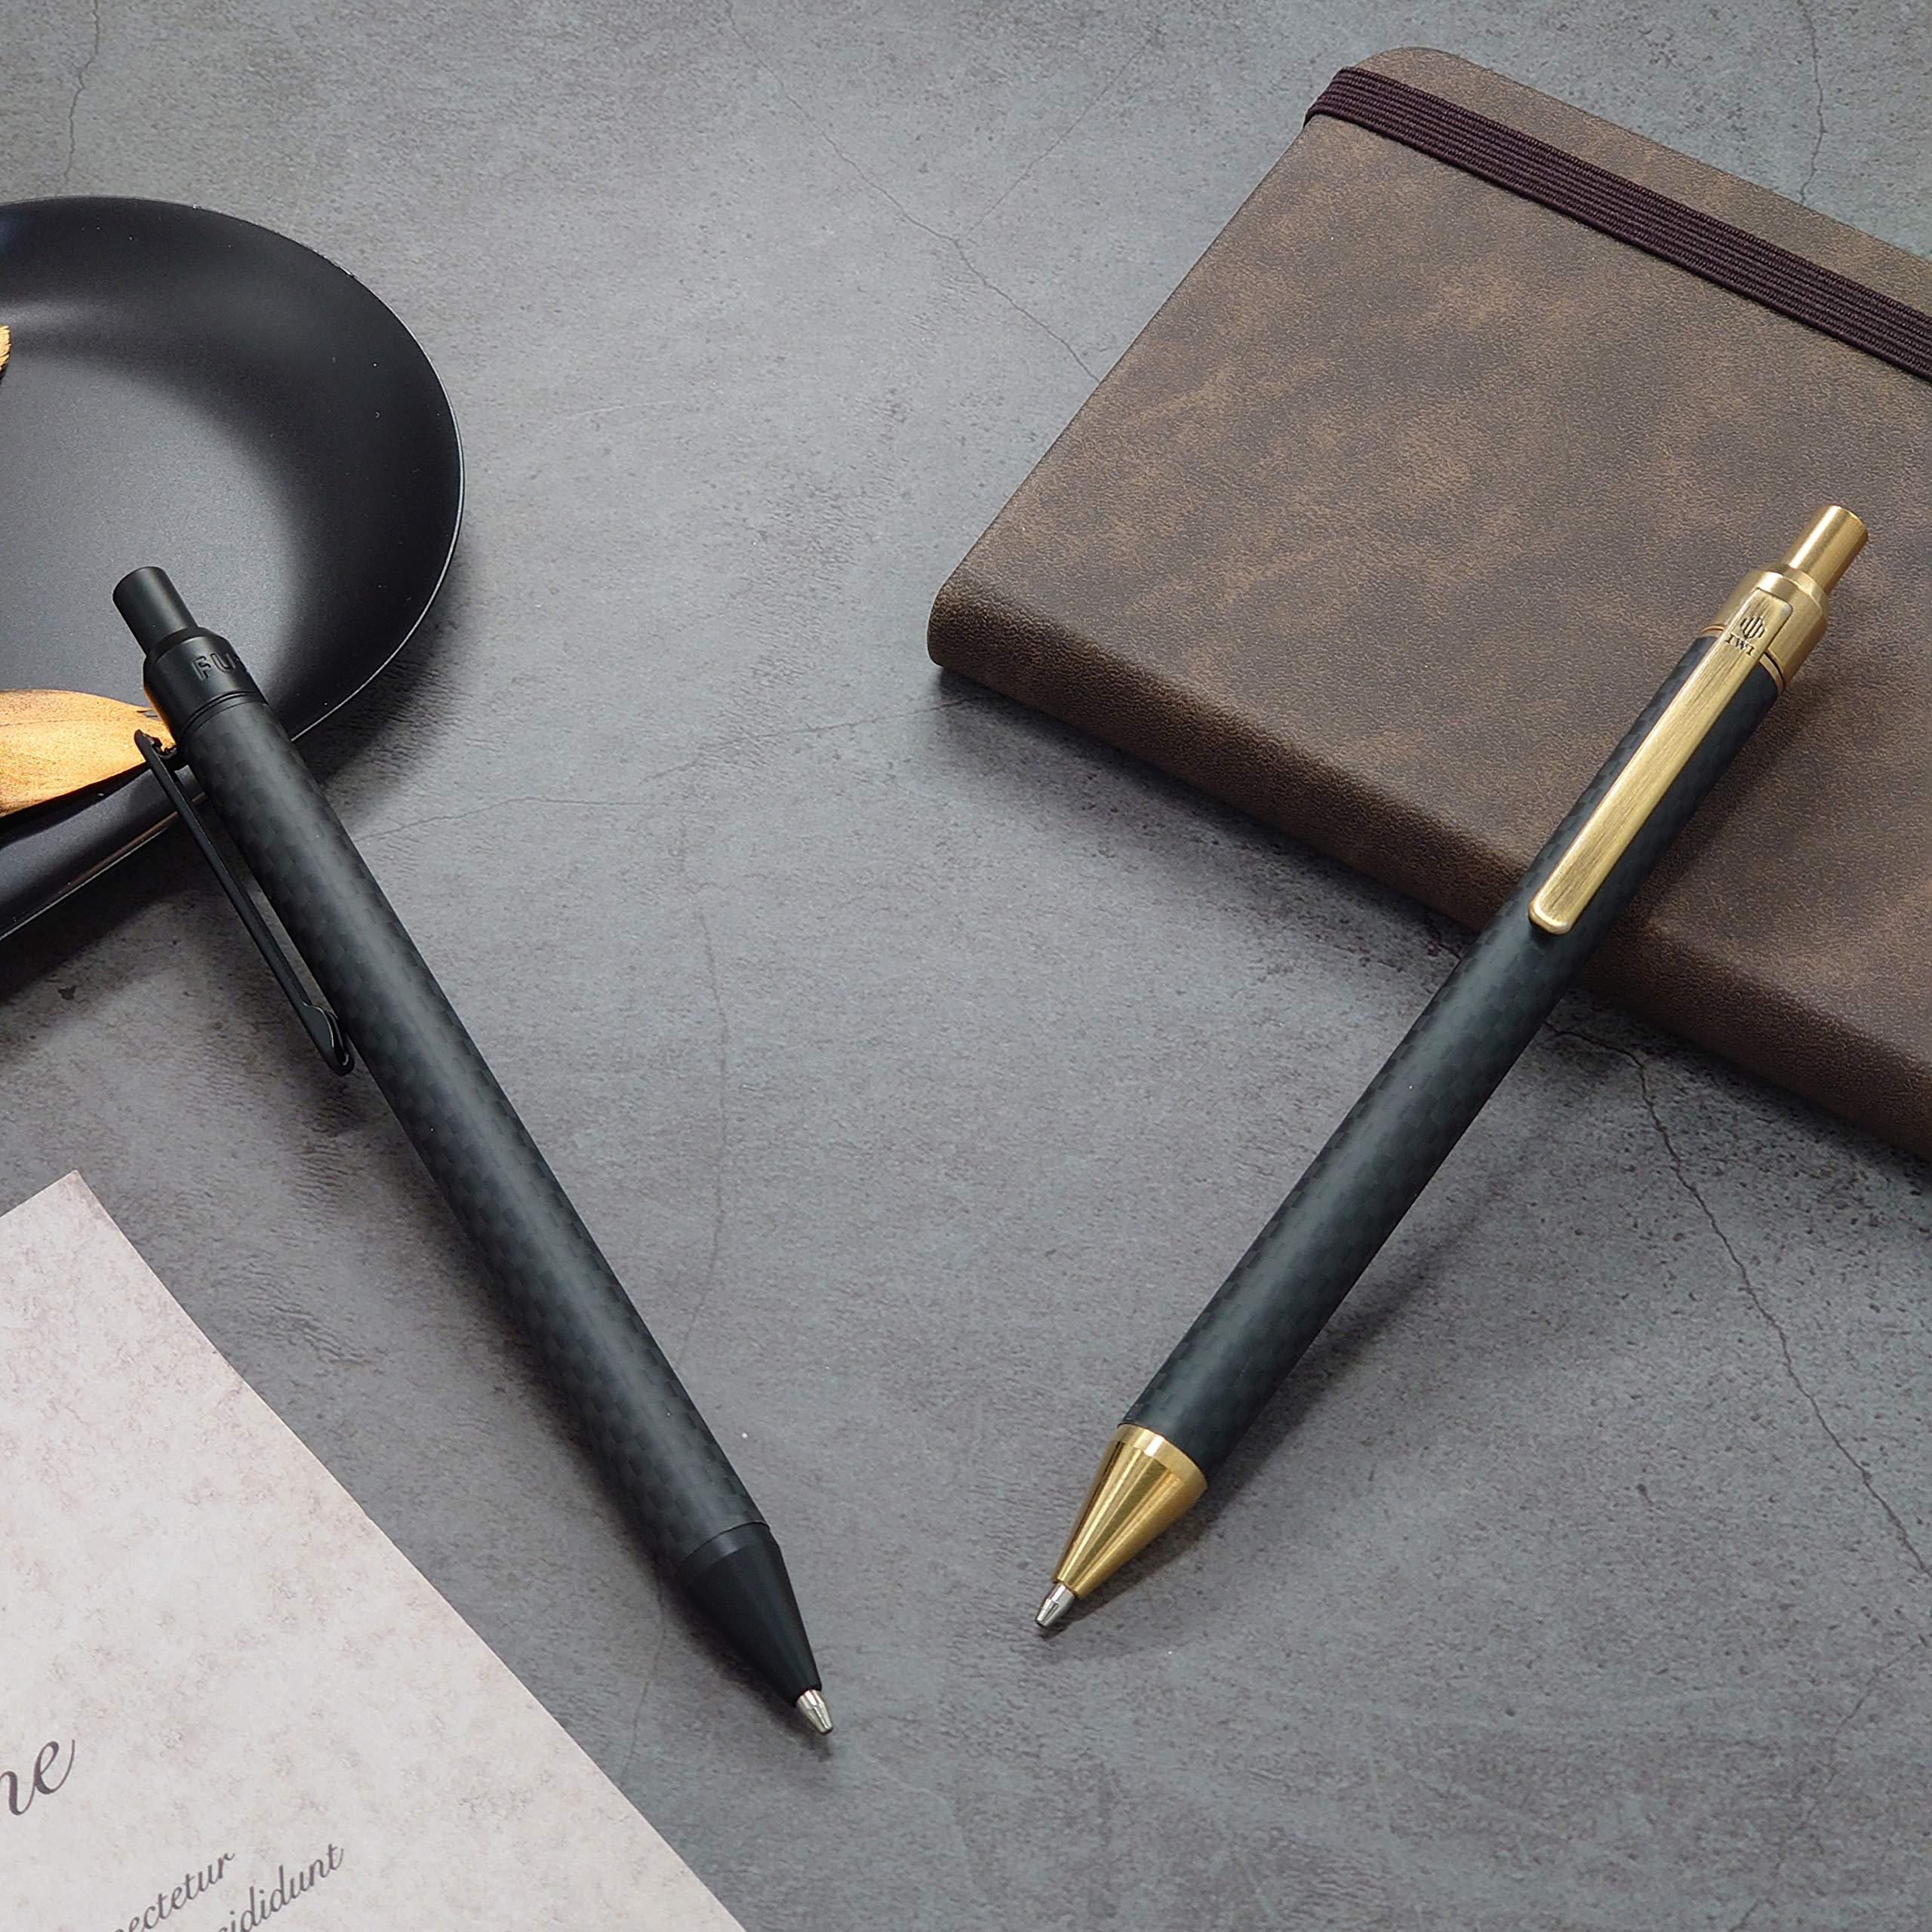Ballpen: (1037, 504, 1867, 1629), (113, 566, 832, 1734)
